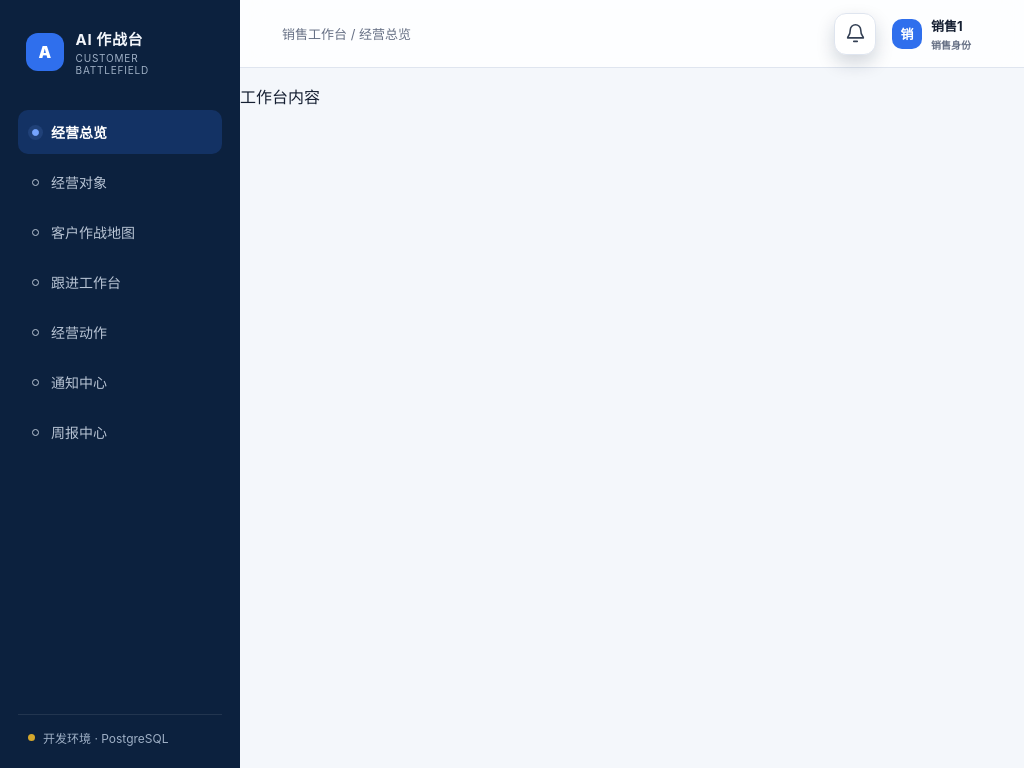
Test case: AppShell › marks the workspace as the system home on desktop and mobile
This screenshot has width=1024, height=768.
Click the heading named "打开账号菜单" at (932, 34), box [892,18,971,50]
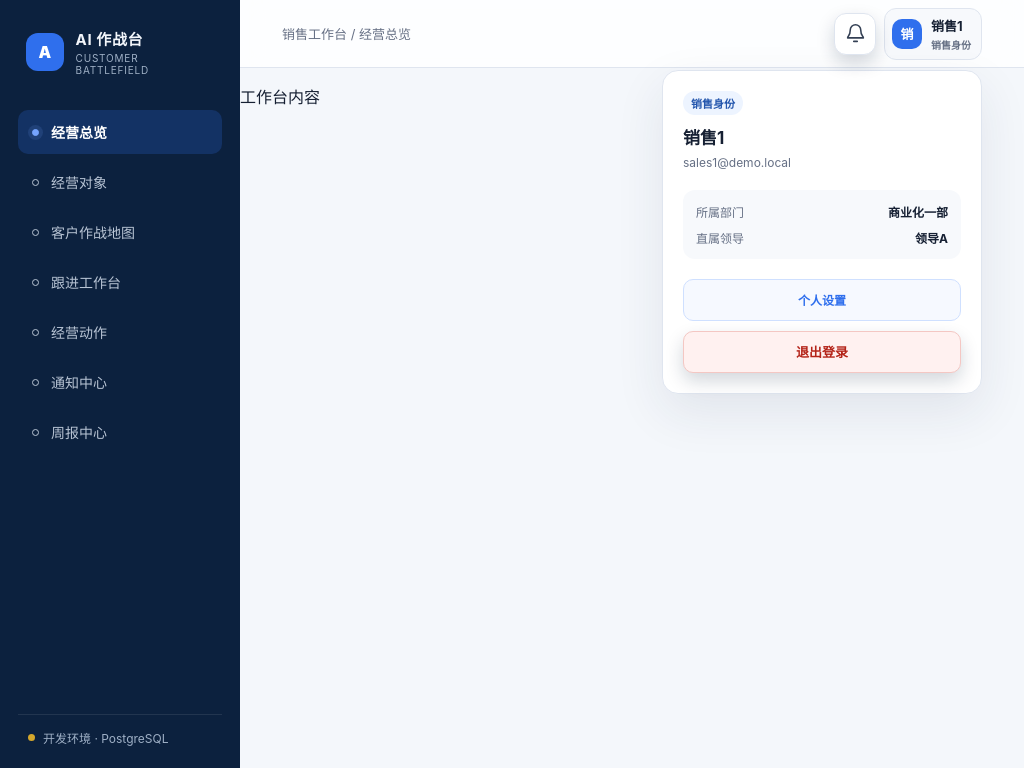
Result: the text "商业化一部" is shown at [888,204,948,220]
Result: the text "直属领导" is shown at [696,230,744,246]
Result: the text "领导A" is shown at [915,230,948,246]
